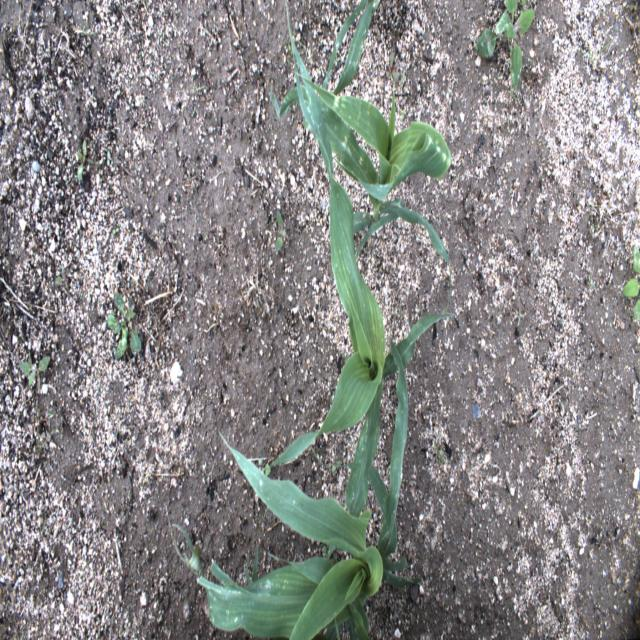crop: (266, 2, 458, 522), (164, 336, 423, 640), (272, 72, 452, 316), (323, 0, 381, 99)
weed: (475, 0, 537, 99), (105, 286, 141, 361), (621, 243, 640, 325), (18, 352, 52, 389), (74, 138, 96, 180), (275, 208, 287, 255), (385, 50, 400, 83), (55, 261, 69, 291), (330, 460, 341, 478), (258, 460, 270, 474), (518, 305, 524, 331), (105, 147, 112, 169), (434, 442, 442, 461), (50, 427, 62, 438), (398, 72, 406, 85), (588, 274, 594, 289), (400, 107, 406, 122), (2, 58, 7, 75), (335, 55, 340, 68), (112, 226, 119, 234), (128, 490, 133, 500)
